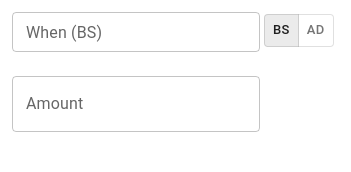
Scenario: fields › confirms the grouped amount and flags invalid money
Type "100000" into the field labelled "Amount" at (136, 104), box [12,76,260,132]
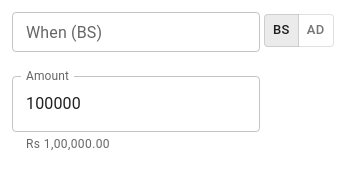
expect the text "Rs 1,00,000.00" is shown: met, box [26,137,110,151]
Replace the text in the field labelled "Amount" with "1.005" at (136, 104), box [12,76,260,132]
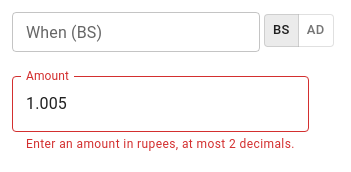
expect the text "Enter an amount in rupees, at most 2 decimals." is shown: met, box [26,135,295,155]
